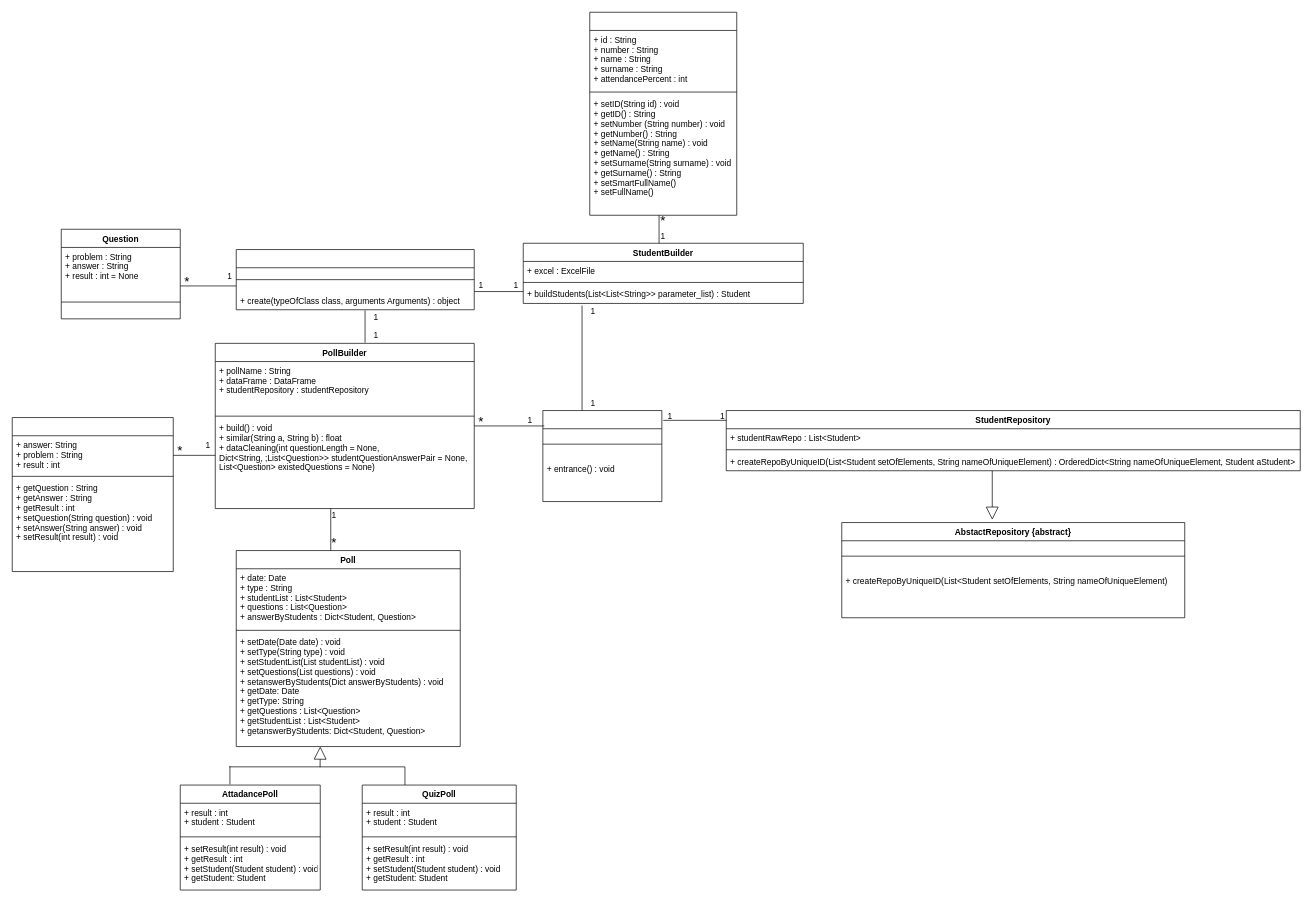
This 1313x904 diagram has some shape labels left out. Each missing label, with the box of its shape:
AnswerKey: (12, 417, 173, 572)
Factory: (236, 249, 474, 310)
Program: (542, 410, 662, 502)
Student: (589, 12, 737, 215)
